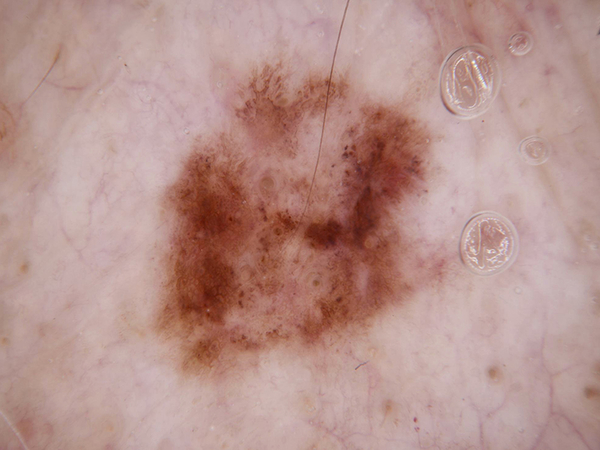Detected Lesion: (157, 66, 447, 370)
